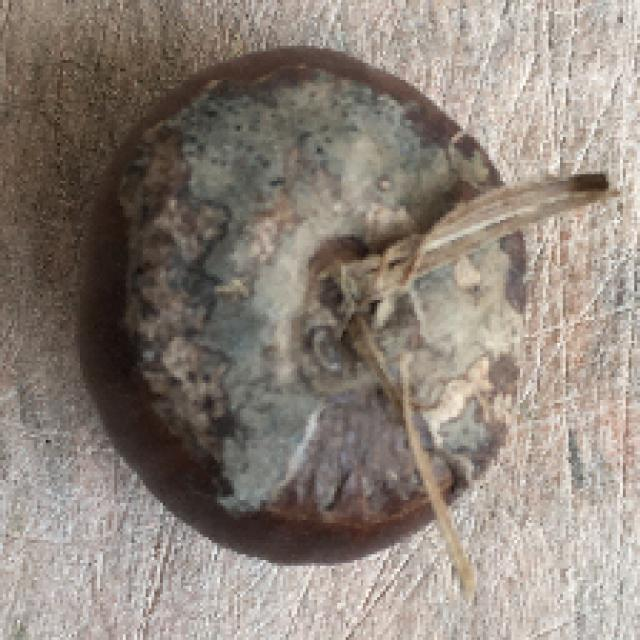damagedHazelnut: (74, 42, 546, 575)
